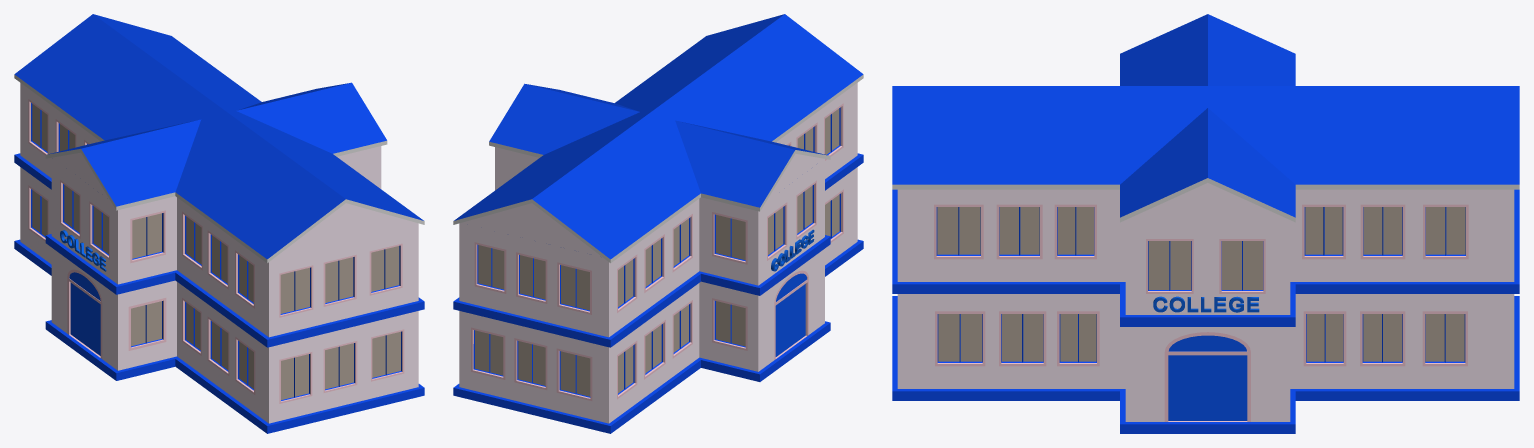
Rendered from School 2.fbx.
3 views of the same model, side by side, from view 1: azimuth 30°, elevation 25°; view 2: azimuth 150°, elevation 25°; view 3: azimuth 270°, elevation 25° (orthographic). The views are drawn at different scales.
Visible parts, largest first — view 1: building_003; view 2: building_003; view 3: building_003.
Part boxes in pixels (left/top/right/bottom): building_003: left=14, top=14, right=424, bottom=433; building_003: left=453, top=14, right=863, bottom=433; building_003: left=892, top=14, right=1519, bottom=433.
Bounding box in the file's own units: 724 × 550 × 1170.
